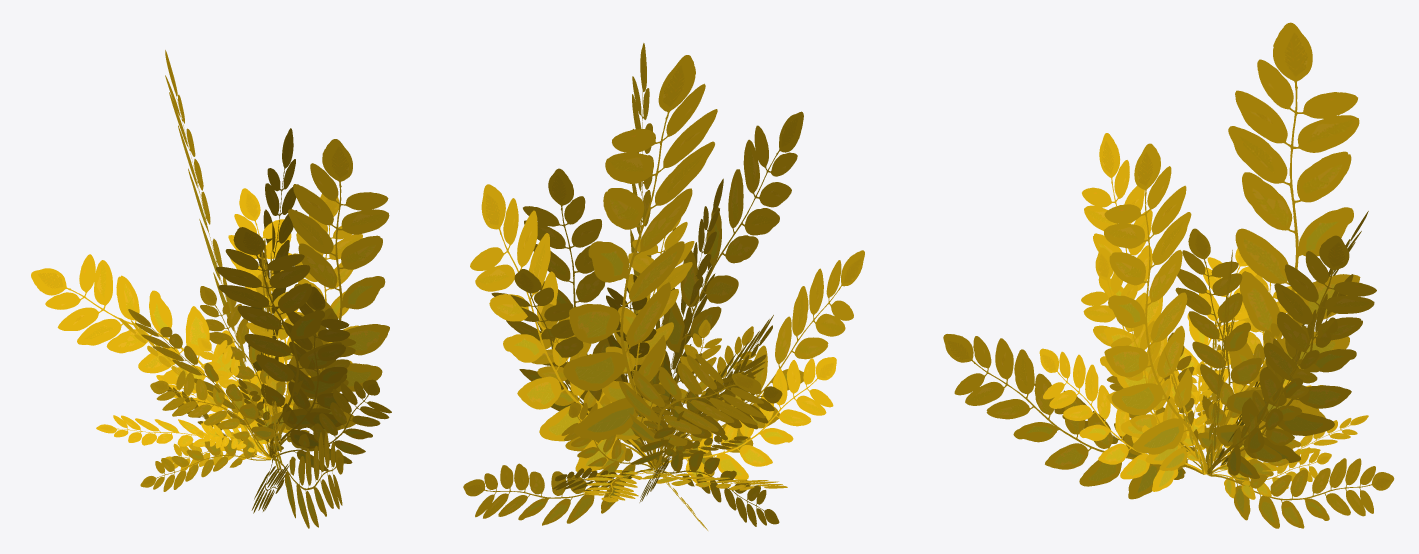
Rendered from yellowbush1.fbx.
3 views of the same model, side by side, from view 1: azimuth 30°, elevation 25°; view 2: azimuth 150°, elevation 25°; view 3: azimuth 270°, elevation 25° (orthographic). The views are drawn at different scales.
Visible parts, largest first — view 1: pPlane164; view 2: pPlane164; view 3: pPlane164.
Part boxes in pixels (<box>): pPlane164: <box>31,50,391,528</box>; pPlane164: <box>463,43,864,530</box>; pPlane164: <box>943,22,1394,528</box>.
Size of the model in its own units: 9.31 by 13.51 by 12.32.
